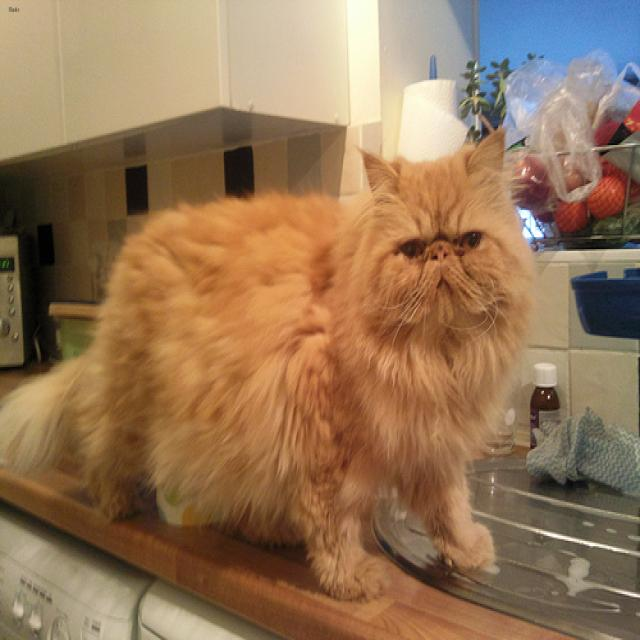cat: (358, 125, 503, 319)
